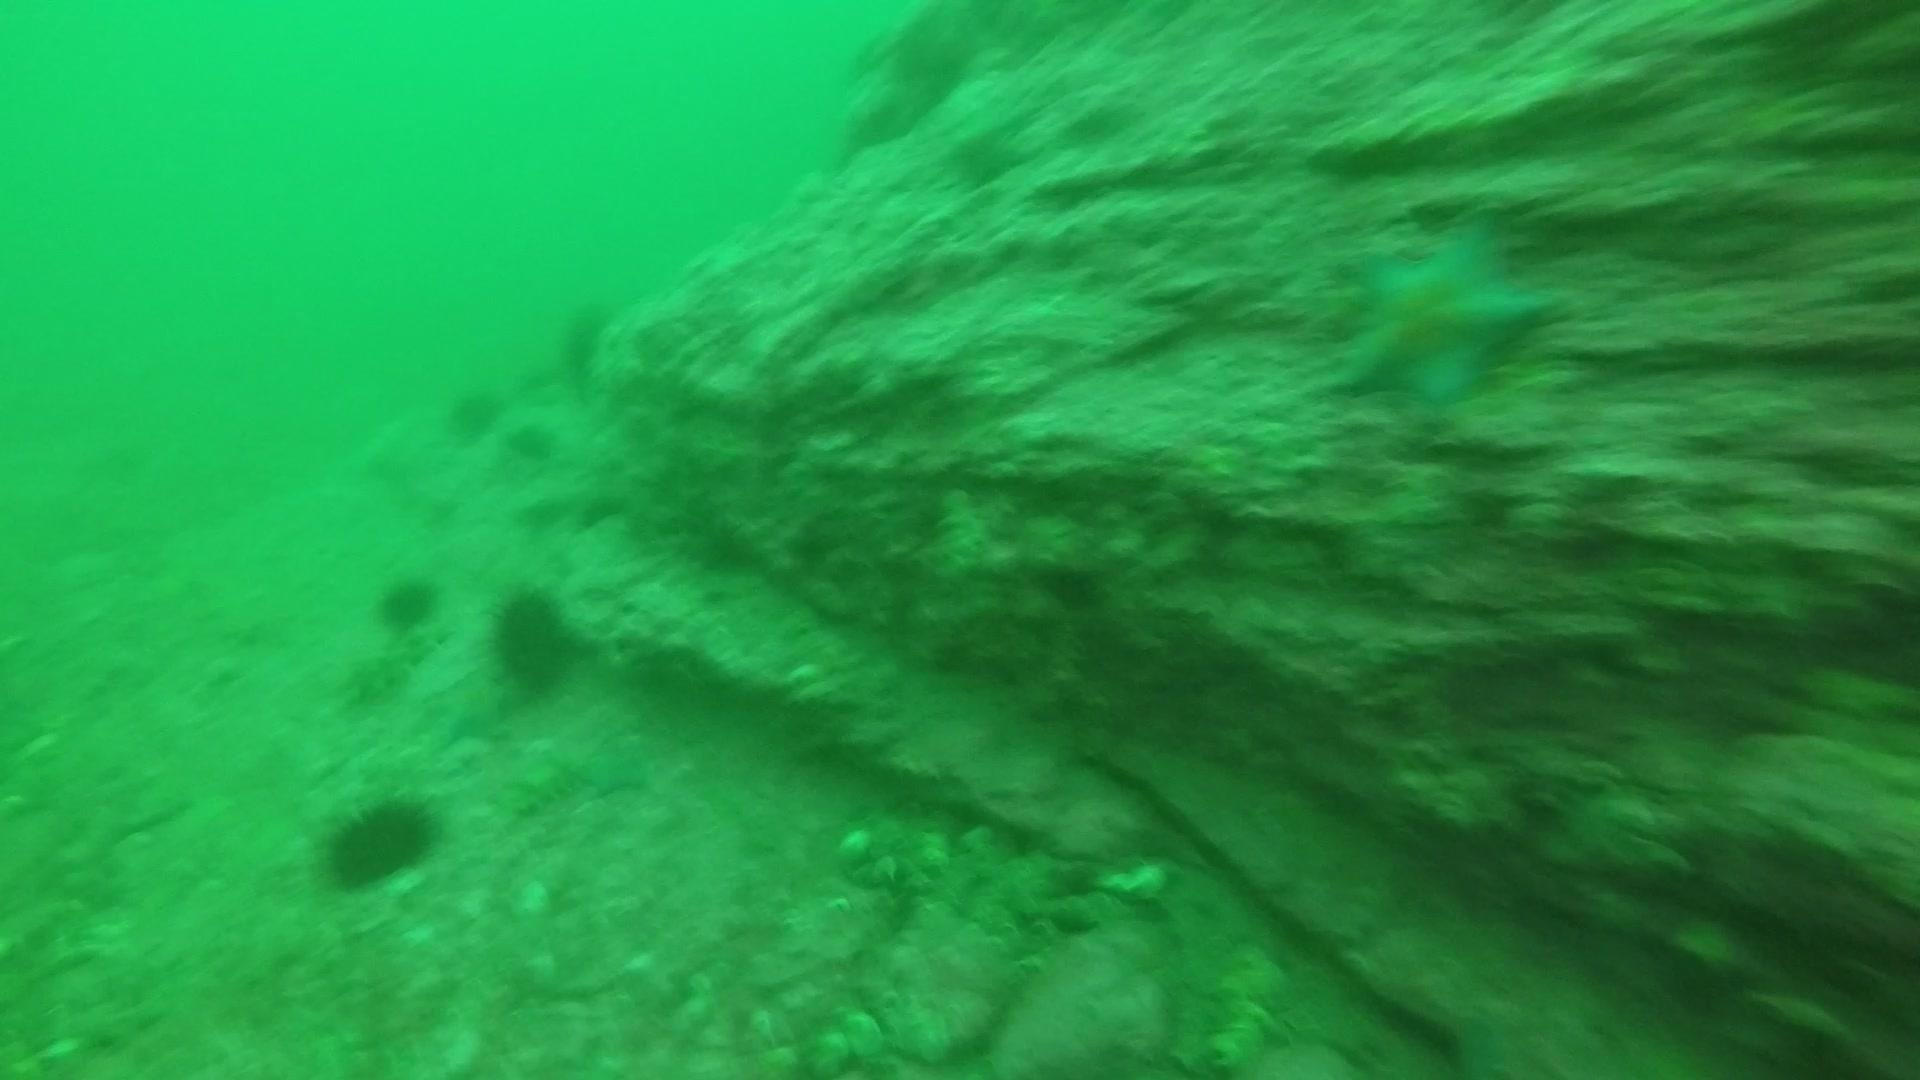echinus: (313, 787, 443, 895), (483, 582, 584, 700), (551, 295, 616, 386), (369, 567, 444, 636), (439, 378, 506, 444), (506, 413, 574, 479)
starfish: (1323, 211, 1567, 415), (422, 658, 517, 749), (563, 723, 662, 803)
